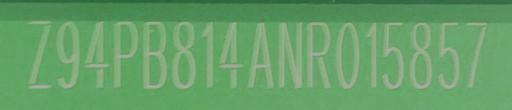letter: (332, 19, 364, 89), (304, 17, 334, 91), (52, 18, 82, 90), (110, 19, 140, 91), (246, 18, 276, 88), (24, 19, 54, 89), (170, 17, 198, 91), (216, 18, 244, 90), (140, 18, 168, 88), (276, 19, 304, 89), (408, 19, 434, 91), (380, 19, 406, 91), (84, 19, 110, 89), (464, 20, 490, 90), (436, 18, 460, 90), (198, 19, 218, 89), (362, 19, 380, 89)
